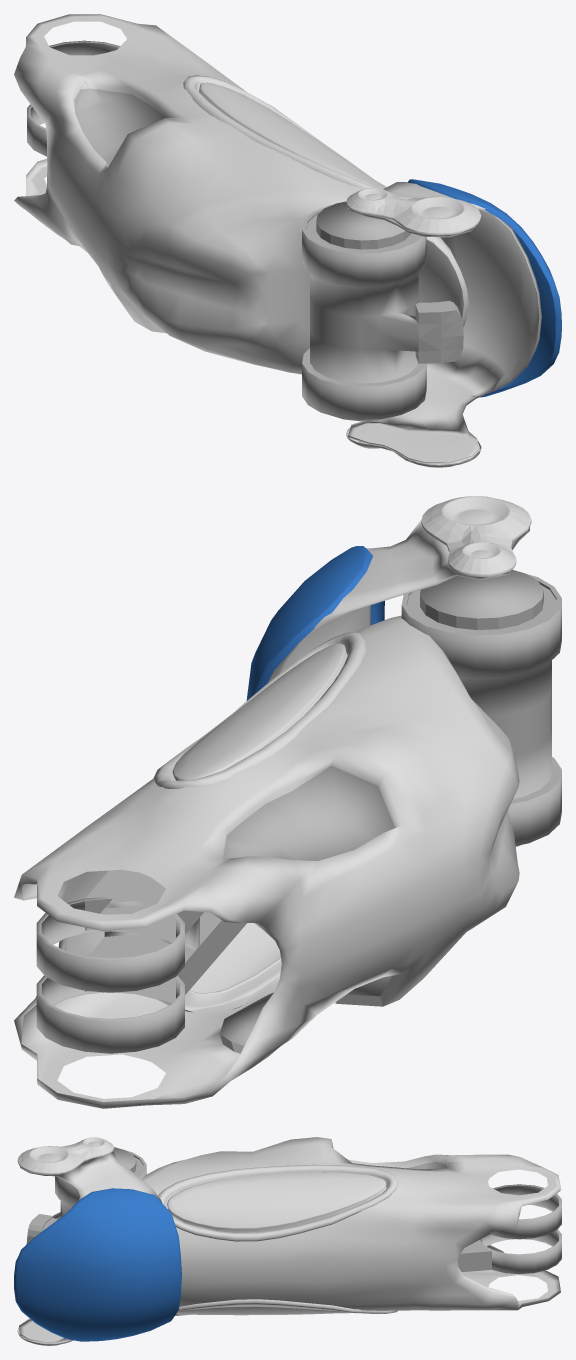
The model's file is RKneePitch.dae.
The picture shows the model from 3 angles, top to bottom: view 1: azimuth 30°, elevation 25°; view 2: azimuth 150°, elevation 25°; view 3: azimuth 270°, elevation 25°; orthographic projection. The views are drawn at different scales.
Visible parts, largest first — view 1: RKneePitch, Cylinder003_000_skip, Object004_000_skip; view 2: RKneePitch, Cylinder003_000_skip, Object004_000_skip; view 3: RKneePitch, Object004_000_skip, Cylinder003_000_skip.
Part boxes in pixels (x1,y1,x2,y2): RKneePitch: (14,14,561,467); Cylinder003_000_skip: (302,201,463,421); Object004_000_skip: (27,40,120,156); RKneePitch: (14,496,531,1108); Cylinder003_000_skip: (401,569,561,846); Object004_000_skip: (36,869,246,1053); RKneePitch: (14,1137,560,1345); Object004_000_skip: (458,1184,561,1274); Cylinder003_000_skip: (26,1147,146,1243).
Size of the model in its own units: 0.1653 by 0.1377 by 0.3741.
